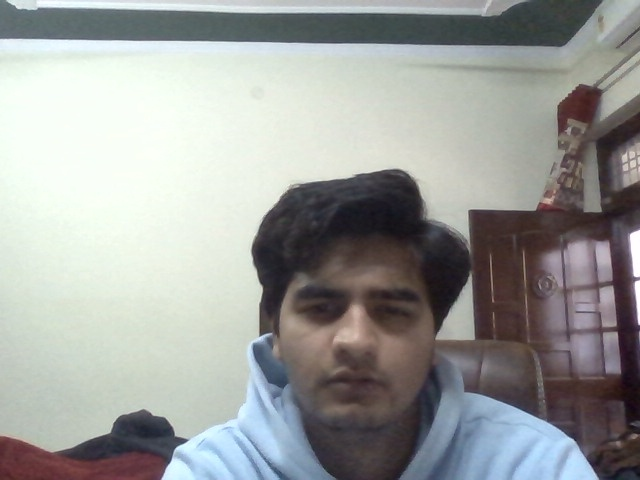fear: (299, 263, 426, 415)
